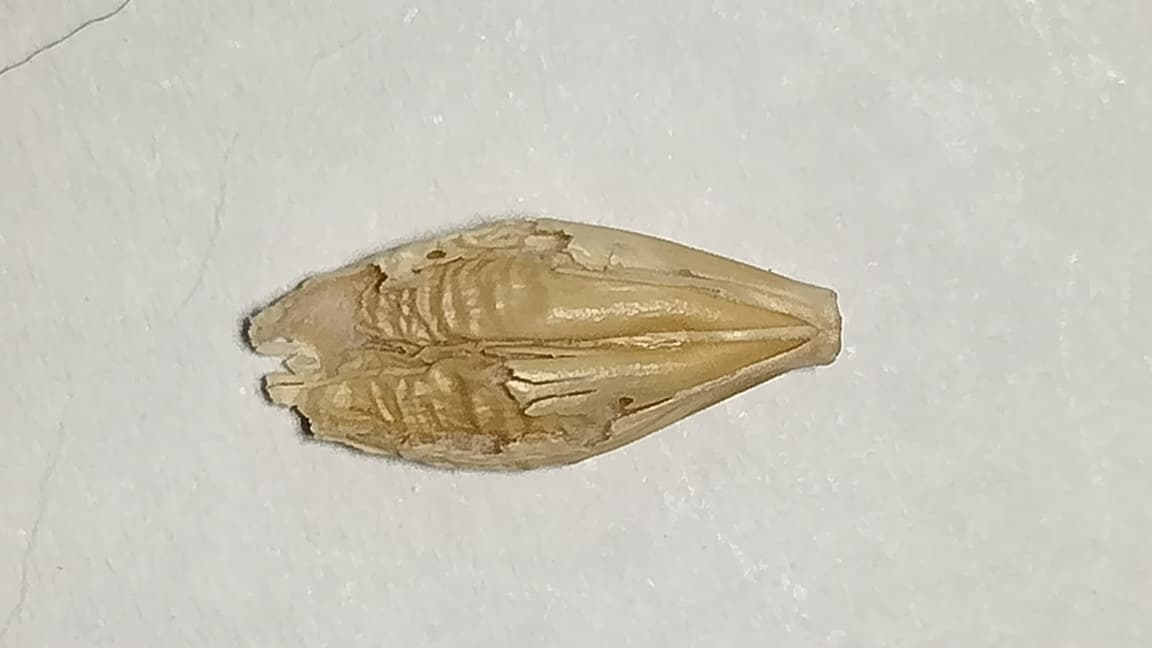damage: (254, 218, 840, 467)
insectdamage: (238, 263, 393, 357), (401, 224, 588, 276), (381, 429, 522, 460), (523, 407, 616, 446)
shriveledseed: (372, 260, 522, 431)
